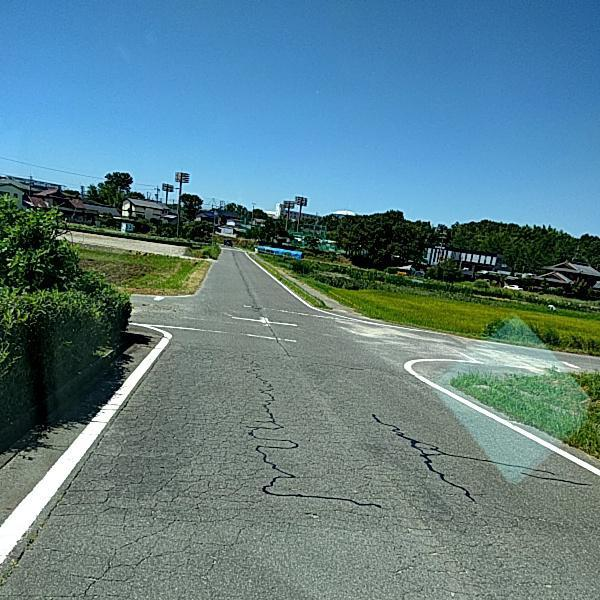D20: (63, 353, 585, 599), (232, 356, 382, 509), (369, 408, 594, 498)
